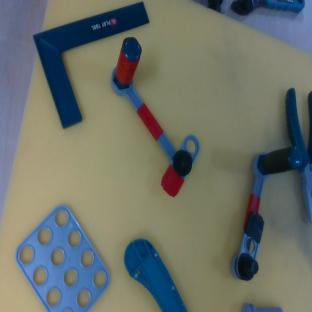non_pass: (210, 134, 306, 284)
pass: (87, 33, 216, 199)
